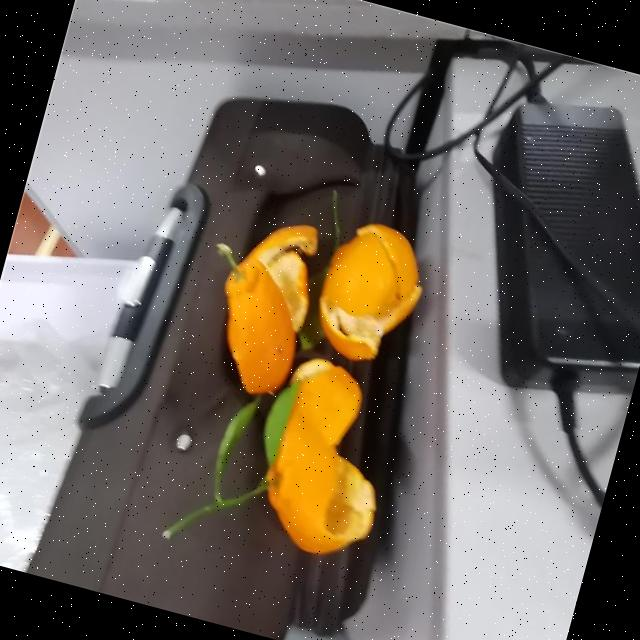orange-peel: (142, 178, 454, 582), (304, 210, 436, 372)
